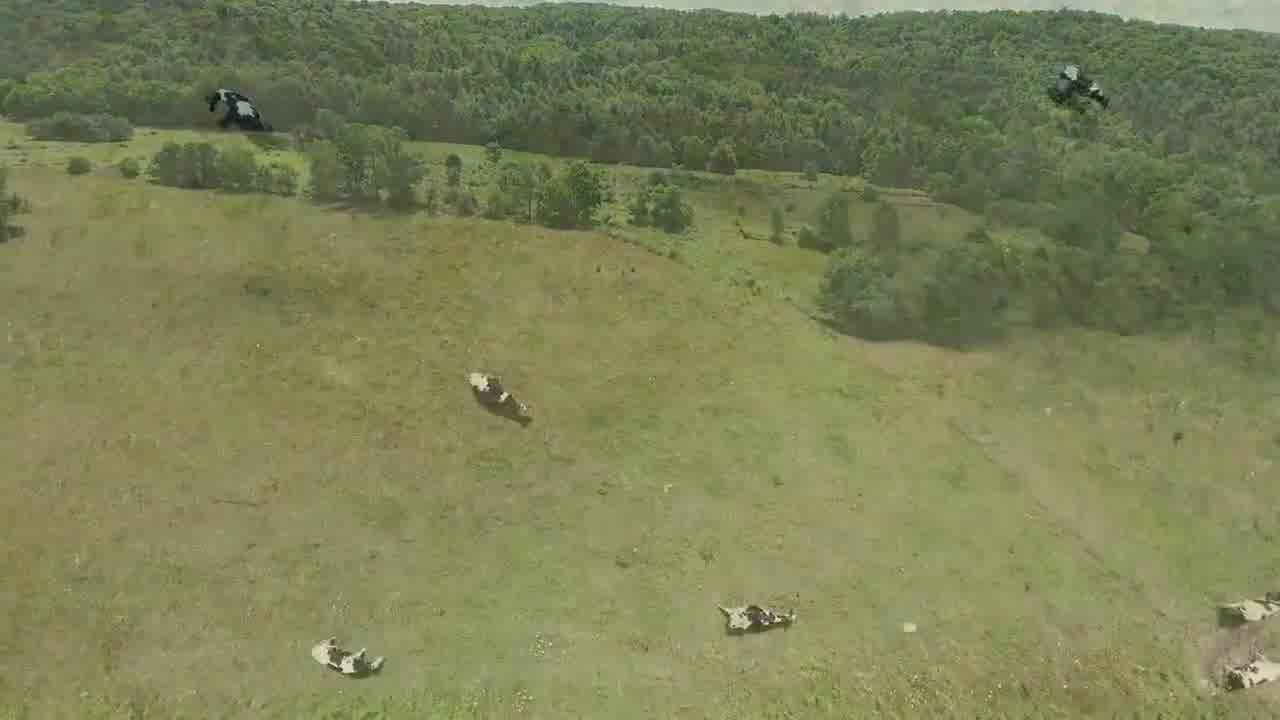cow: (1045, 58, 1114, 123), (307, 630, 390, 683), (465, 367, 536, 426), (715, 594, 798, 642), (206, 83, 270, 144), (1214, 584, 1280, 631), (1223, 641, 1280, 694)
